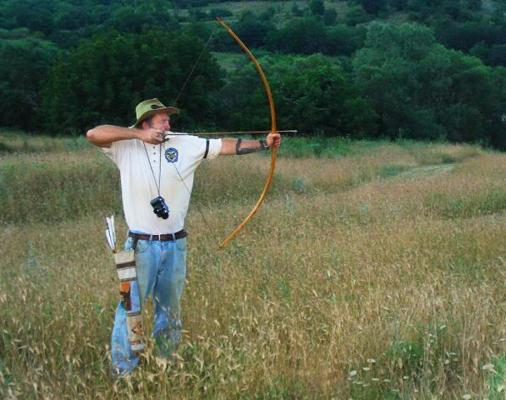person: (88, 98, 285, 375)
